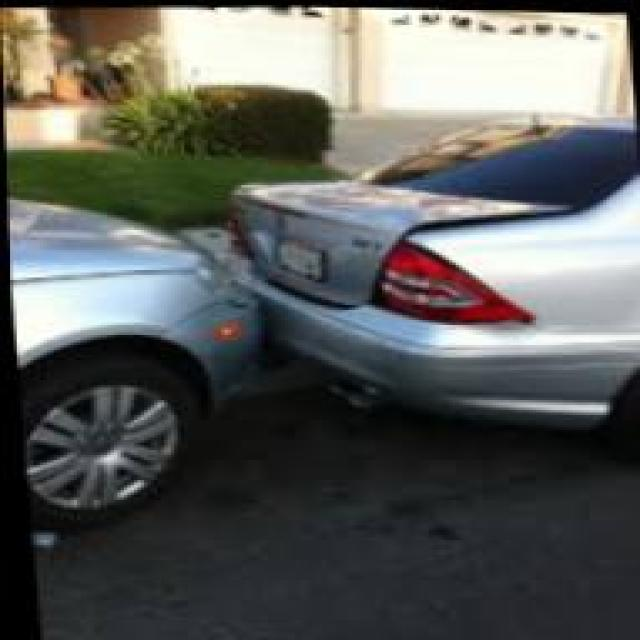rapairable: (233, 243, 299, 334)
